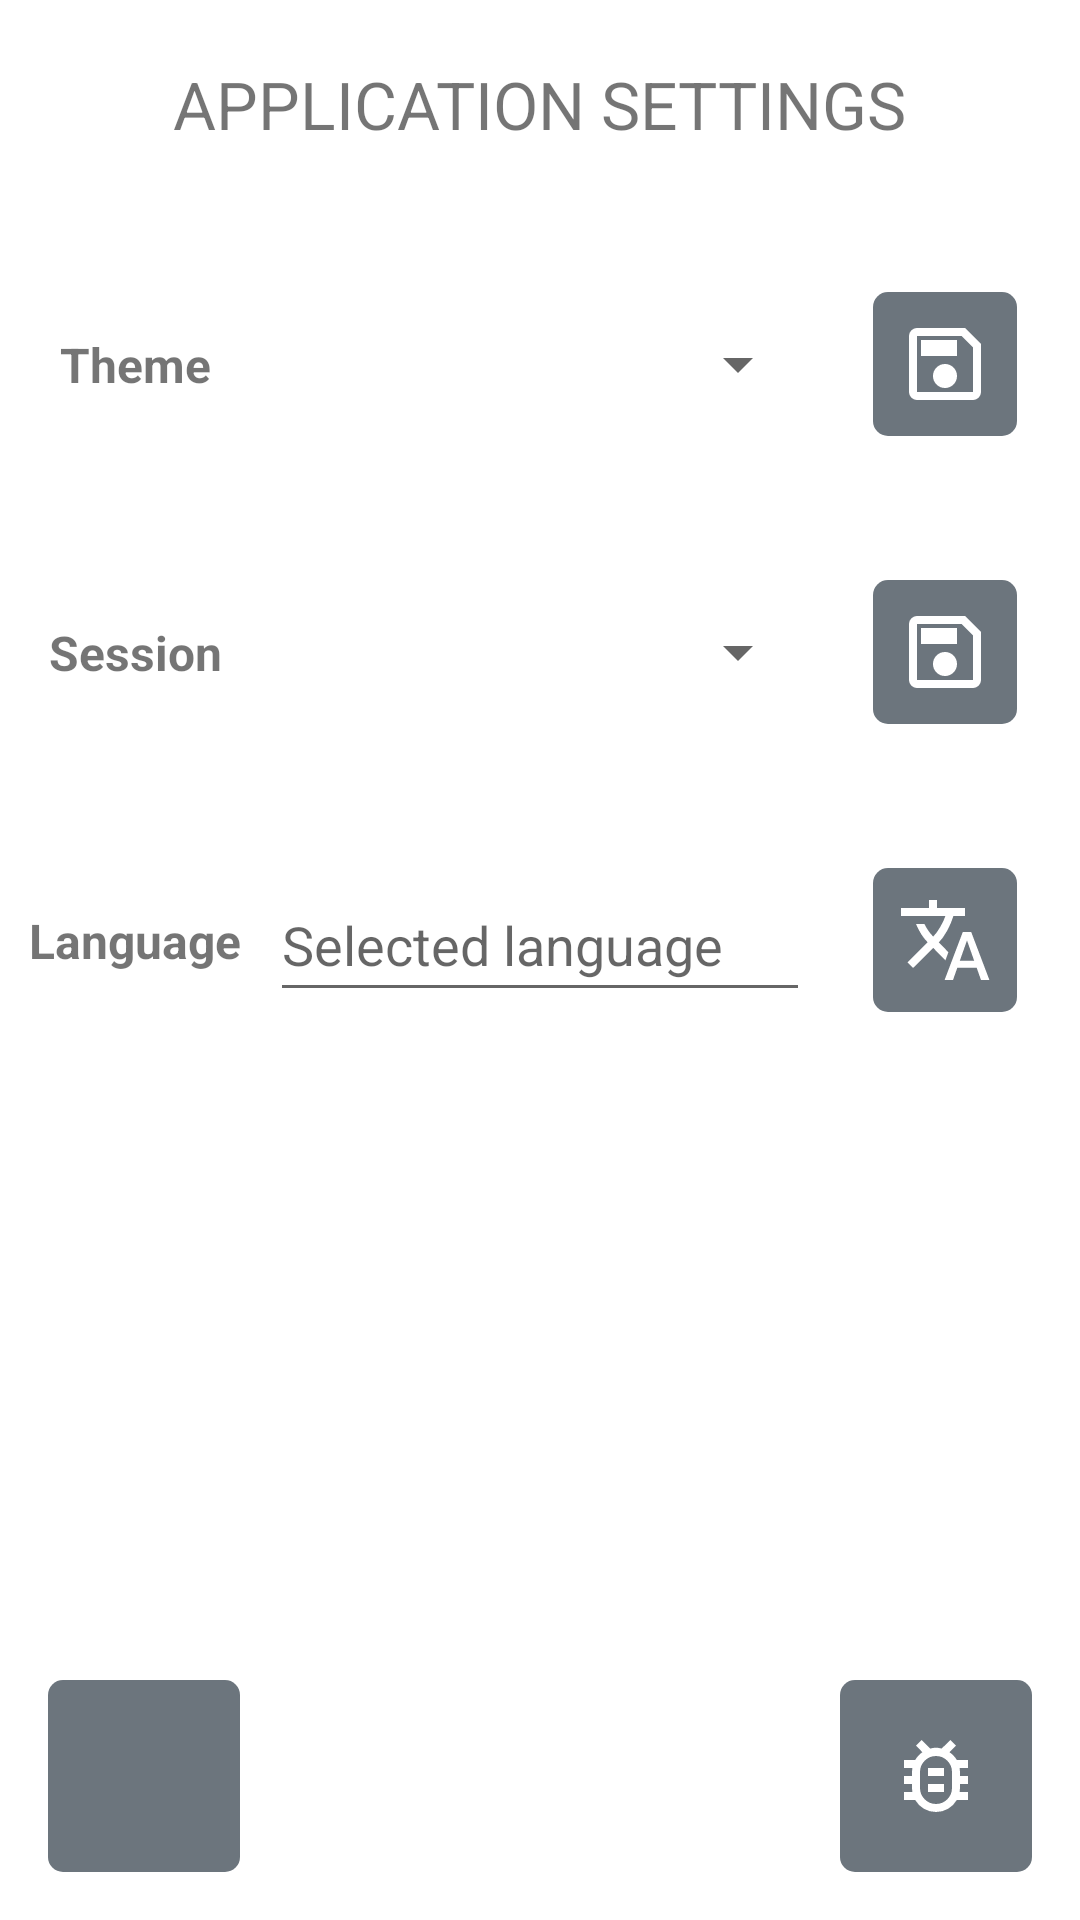

Named icons in this screenshot (1080w x 1920h) and their centers, [x,y]:
save: [945,364], [945,652]
translate: [945,940]
